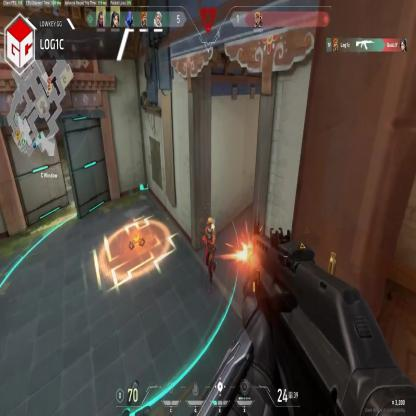enemy: (202, 216, 217, 291)
enemy_head: (207, 218, 212, 230)
